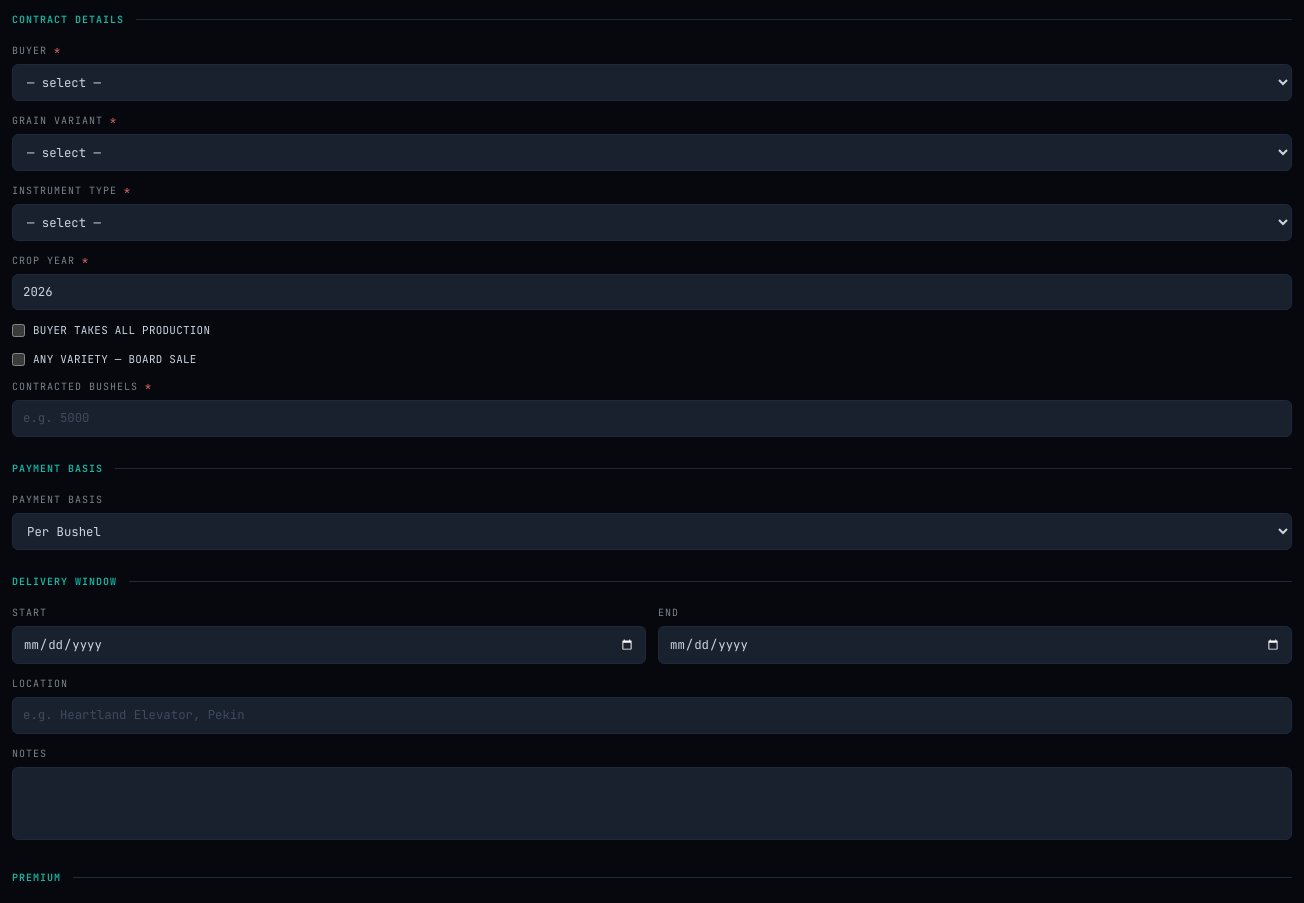
Test case: ContractForm › shows Seed Corn Details section when paymentBasis is PER_ACRE
Select "Per Acre" in the dropdown labelled "Payment Basis" at (652, 531), box [12, 513, 1292, 550]
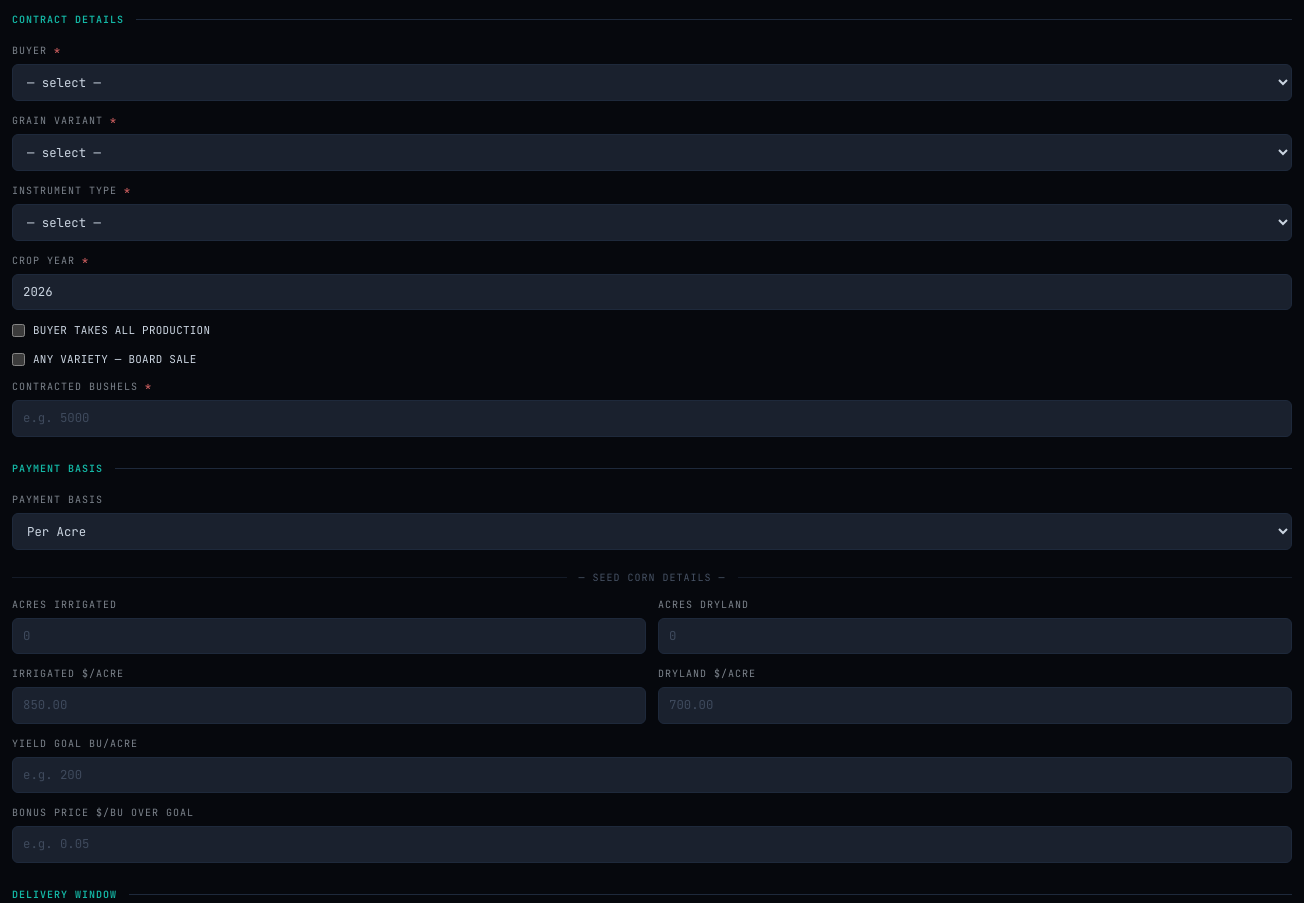
Expected: the text "— Seed Corn Details —" is shown, [574, 570, 730, 585]
Expected: the number field labelled "Acres Irrigated" is shown, [12, 618, 646, 654]
